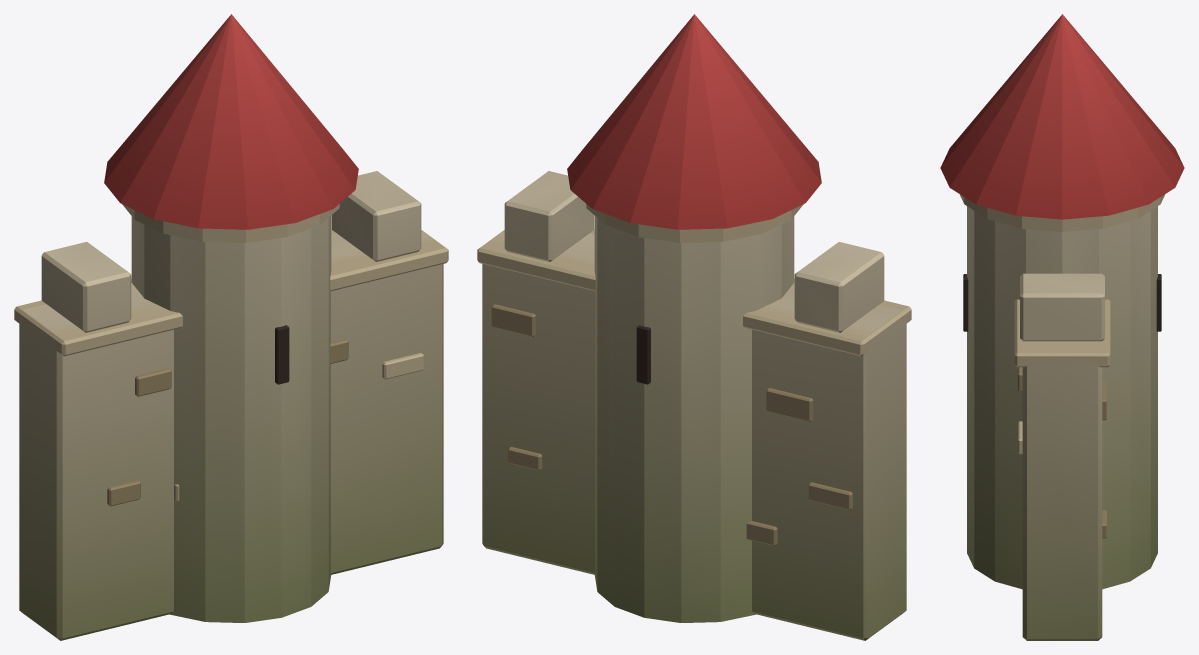
Rendered from muralla.glb.
3 views of the same model, side by side, from view 1: azimuth 30°, elevation 25°; view 2: azimuth 150°, elevation 25°; view 3: azimuth 270°, elevation 25° (orthographic). The views are drawn at different scales.
Visible parts, largest first — view 1: Torreta, Tramo de muralla; view 2: Torreta, Tramo de muralla; view 3: Torreta, Tramo de muralla.
Part boxes in pixels (box(x1,y1,x2,y2)): Torreta: box(104, 14, 358, 622); Tramo de muralla: box(14, 171, 448, 640); Torreta: box(567, 14, 821, 622); Tramo de muralla: box(477, 171, 911, 640); Torreta: box(940, 14, 1184, 589); Tramo de muralla: box(1014, 273, 1110, 640).
Size of the model in its own units: 8 by 11.2 by 4.6.
